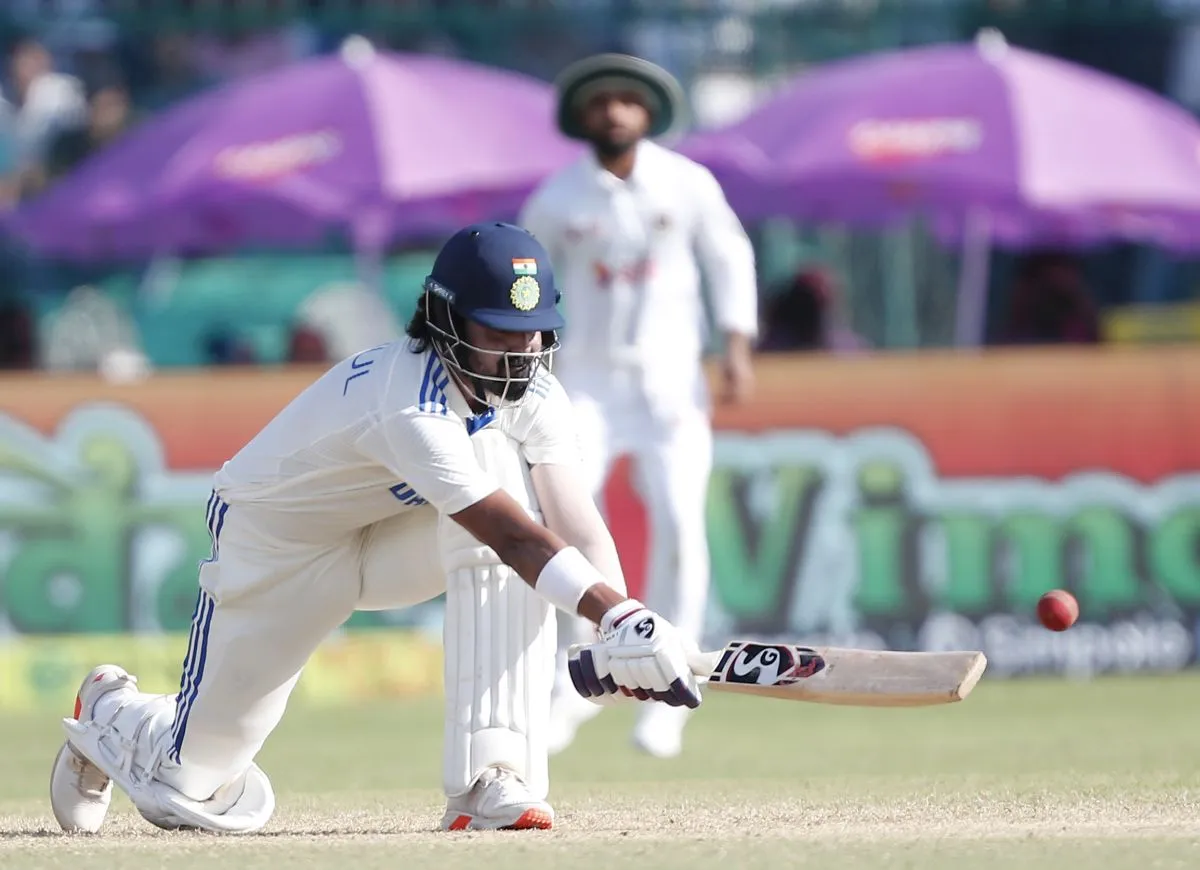Sweepshot: (40, 29, 1005, 846)
